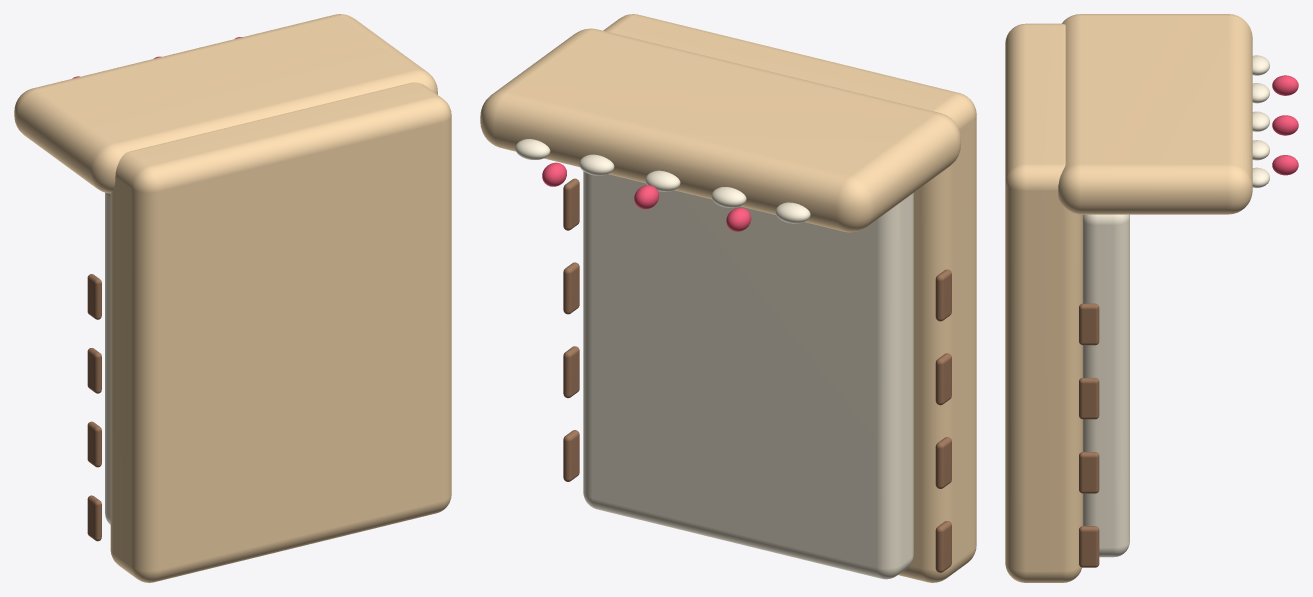
File: 蛋糕奶油床.fbx
3 views of the same model, side by side, from view 1: azimuth 30°, elevation 25°; view 2: azimuth 150°, elevation 25°; view 3: azimuth 270°, elevation 25° (orthographic). The views are drawn at different scales.
Visible parts, largest first — view 1: 蛋糕奶油床_蛋糕胚床架, 蛋糕奶油床_蛋糕靠背, 蛋糕奶油床_奶油床垫, 蛋糕奶油床_巧克力侧线.002, 蛋糕奶油床_巧克力侧线, 蛋糕奶油床_巧克力侧线.006, 蛋糕奶油床_巧克力侧线.004; view 2: 蛋糕奶油床_奶油床垫, 蛋糕奶油床_蛋糕靠背, 蛋糕奶油床_蛋糕胚床架, 蛋糕奶油床_巧克力侧线.005, 蛋糕奶油床_巧克力侧线.001, 蛋糕奶油床_巧克力侧线.003, 蛋糕奶油床_巧克力侧线.004, 蛋糕奶油床_巧克力侧线.007, 蛋糕奶油床_巧克力侧线.006, 蛋糕奶油床_巧克力侧线, 蛋糕奶油床_巧克力侧线.002; view 3: 蛋糕奶油床_蛋糕胚床架, 蛋糕奶油床_蛋糕靠背, 蛋糕奶油床_奶油床垫, 蛋糕奶油床_巧克力侧线.007, 蛋糕奶油床_巧克力侧线.003, 蛋糕奶油床_巧克力侧线.005, 蛋糕奶油床_巧克力侧线.001, 蛋糕奶油床_草莓点缀.002, 蛋糕奶油床_草莓点缀, 蛋糕奶油床_草莓点缀.001.
Part boxes in pixels (x1=…): 蛋糕奶油床_蛋糕胚床架: x1=110, y1=82, x2=451, y2=582; 蛋糕奶油床_蛋糕靠背: x1=14, y1=14, x2=437, y2=193; 蛋糕奶油床_奶油床垫: x1=105, y1=192, x2=110, y2=524; 蛋糕奶油床_巧克力侧线.002: x1=87, y1=421, x2=101, y2=467; 蛋糕奶油床_巧克力侧线: x1=87, y1=495, x2=101, y2=541; 蛋糕奶油床_巧克力侧线.006: x1=87, y1=274, x2=101, y2=319; 蛋糕奶油床_巧克力侧线.004: x1=87, y1=348, x2=101, y2=393; 蛋糕奶油床_奶油床垫: x1=583, y1=171, x2=913, y2=579; 蛋糕奶油床_蛋糕靠背: x1=480, y1=28, x2=960, y2=232; 蛋糕奶油床_蛋糕胚床架: x1=603, y1=14, x2=976, y2=582; 蛋糕奶油床_巧克力侧线.005: x1=563, y1=262, x2=579, y2=314; 蛋糕奶油床_巧克力侧线.001: x1=563, y1=430, x2=579, y2=481; 蛋糕奶油床_巧克力侧线.003: x1=563, y1=346, x2=579, y2=398; 蛋糕奶油床_巧克力侧线.004: x1=935, y1=353, x2=951, y2=405; 蛋糕奶油床_巧克力侧线.007: x1=563, y1=178, x2=579, y2=230; 蛋糕奶油床_巧克力侧线.006: x1=935, y1=269, x2=951, y2=321; 蛋糕奶油床_巧克力侧线: x1=935, y1=521, x2=951, y2=572; 蛋糕奶油床_巧克力侧线.002: x1=935, y1=437, x2=951, y2=488; 蛋糕奶油床_蛋糕胚床架: x1=1005, y1=23, x2=1082, y2=582; 蛋糕奶油床_蛋糕靠背: x1=1058, y1=14, x2=1252, y2=214; 蛋糕奶油床_奶油床垫: x1=1083, y1=214, x2=1129, y2=557; 蛋糕奶油床_巧克力侧线.007: x1=1079, y1=303, x2=1099, y2=345; 蛋糕奶油床_巧克力侧线.003: x1=1079, y1=452, x2=1099, y2=493; 蛋糕奶油床_巧克力侧线.005: x1=1079, y1=378, x2=1099, y2=419; 蛋糕奶油床_巧克力侧线.001: x1=1079, y1=526, x2=1099, y2=567; 蛋糕奶油床_草莓点缀.002: x1=1272, y1=155, x2=1298, y2=175; 蛋糕奶油床_草莓点缀: x1=1272, y1=75, x2=1298, y2=95; 蛋糕奶油床_草莓点缀.001: x1=1272, y1=115, x2=1298, y2=135.
Size of the model in its own units: 195 by 228 by 144.
